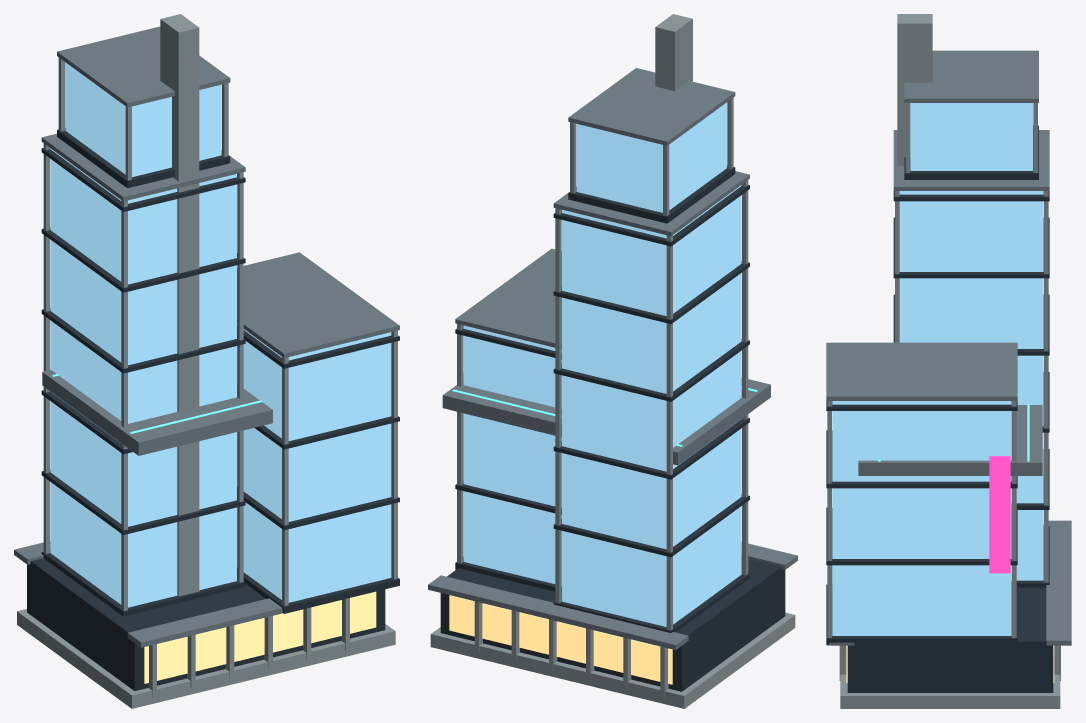
File: vrx_city_exchange_b_LOD1.fbx
The picture shows the model from 3 angles, left to right: view 1: azimuth 30°, elevation 25°; view 2: azimuth 150°, elevation 25°; view 3: azimuth 270°, elevation 25°; orthographic projection. The views are drawn at different scales.
Parts seen in each view (by area): view 1: vrx_city_exchange_b_LOD1; view 2: vrx_city_exchange_b_LOD1; view 3: vrx_city_exchange_b_LOD1.
Part boxes in pixels (x1=…): vrx_city_exchange_b_LOD1: x1=14, y1=14, x2=399, y2=708; vrx_city_exchange_b_LOD1: x1=428, y1=14, x2=797, y2=708; vrx_city_exchange_b_LOD1: x1=826, y1=14, x2=1071, y2=708.
Size of the model in its own units: 41 by 94.5 by 34.6.
